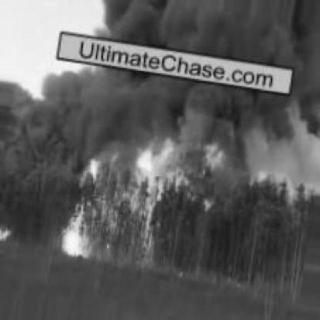Fire: (50, 127, 226, 270)
Smoke: (105, 2, 308, 138), (3, 78, 113, 158)
